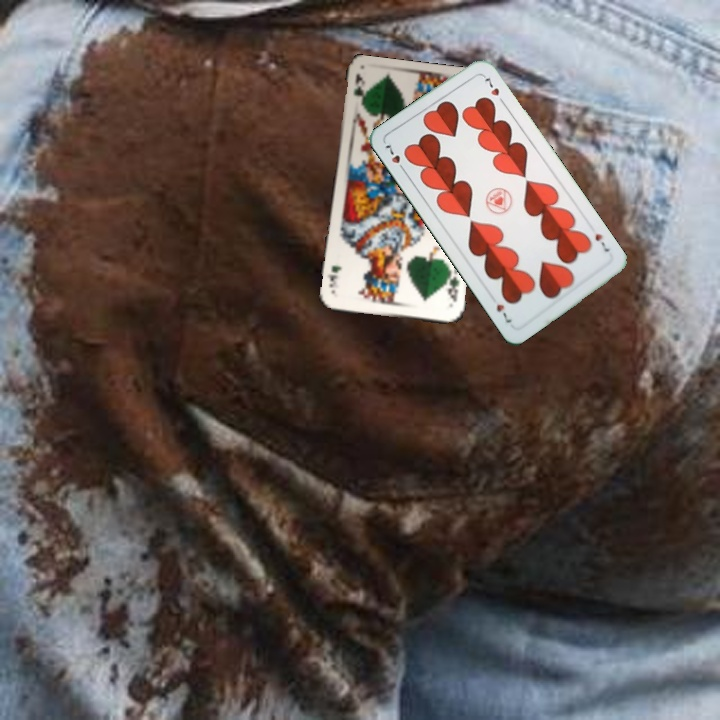GK: (443, 270, 461, 305), (350, 69, 366, 108)
H7: (381, 141, 408, 175), (587, 225, 612, 255)
